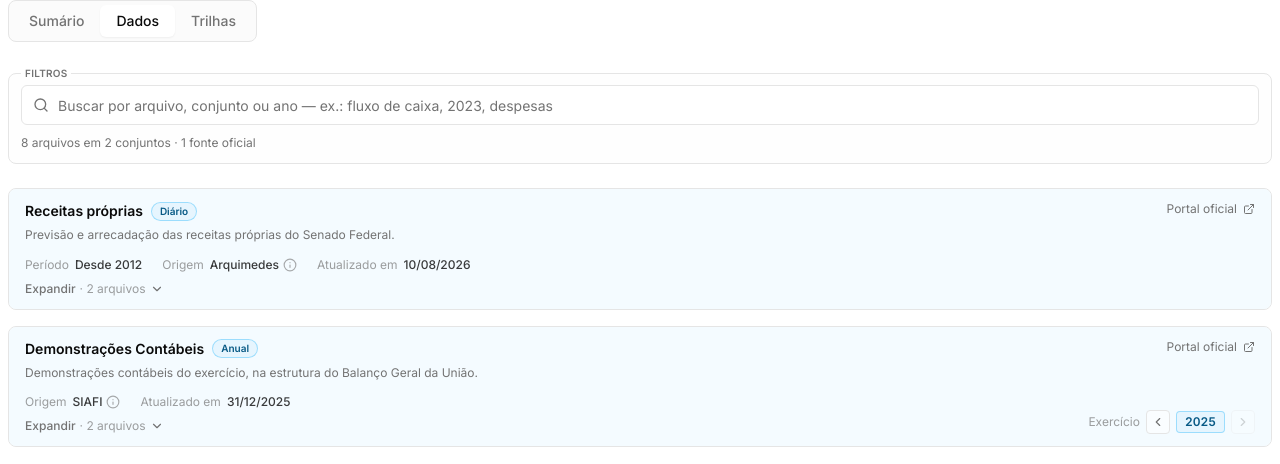
Scenario: FonteDeDadosView › filtra ao digitar
Expected: the text "8 arquivos em 2 conjuntos · 1 fonte oficial" is shown, [21, 135, 256, 150]
Replace the text in the field named "Buscar no catálogo" with "fluxo de caixa" at (640, 105), box [21, 85, 1259, 125]
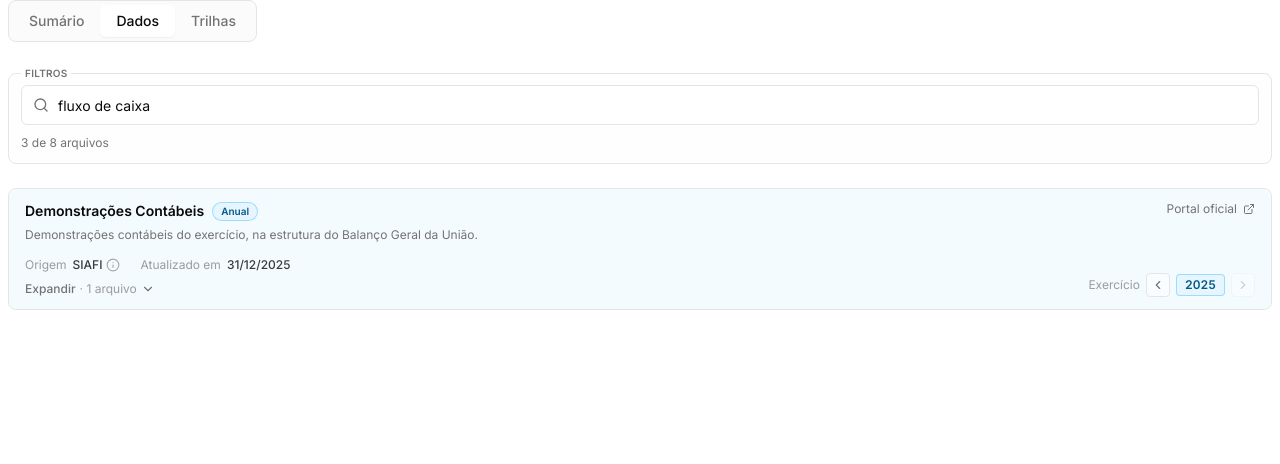
Result: the text "3 de 8 arquivos" is shown at [21, 135, 109, 150]
